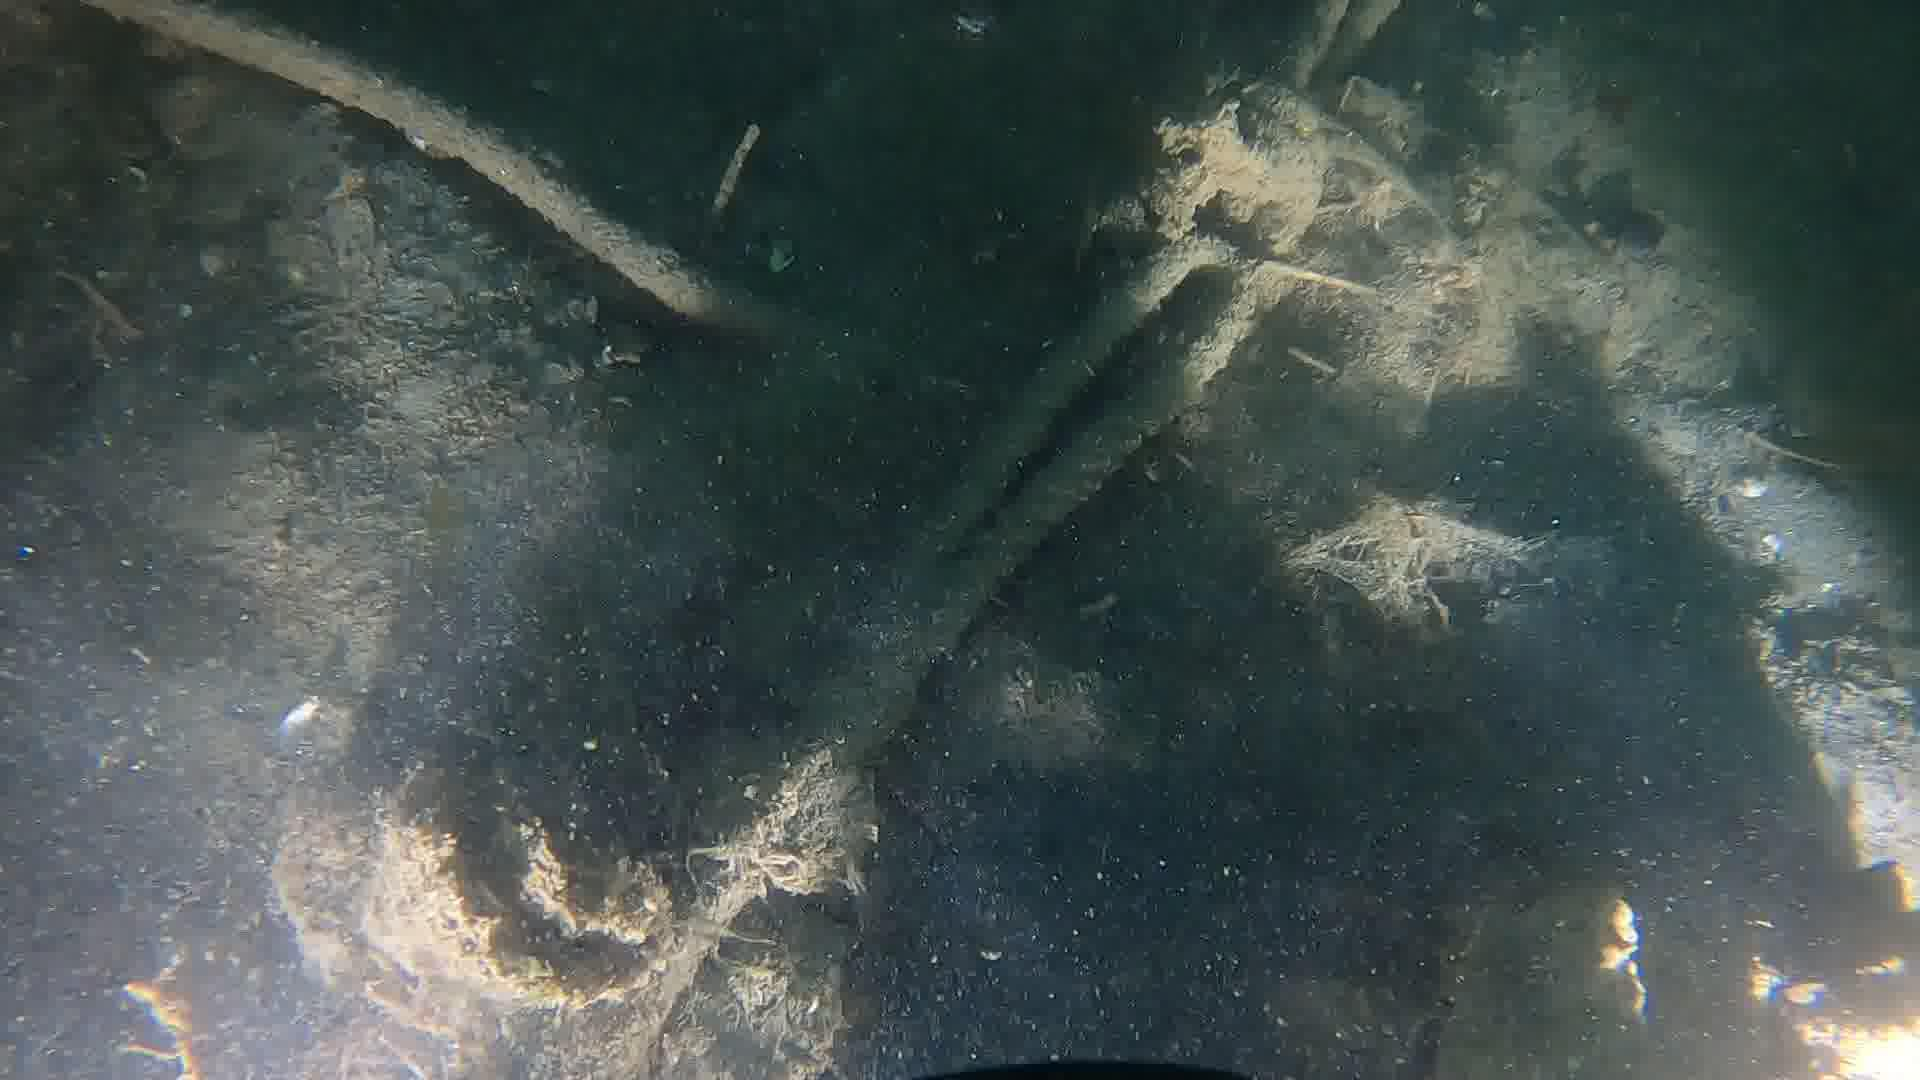rope: (819, 232, 1255, 738)
